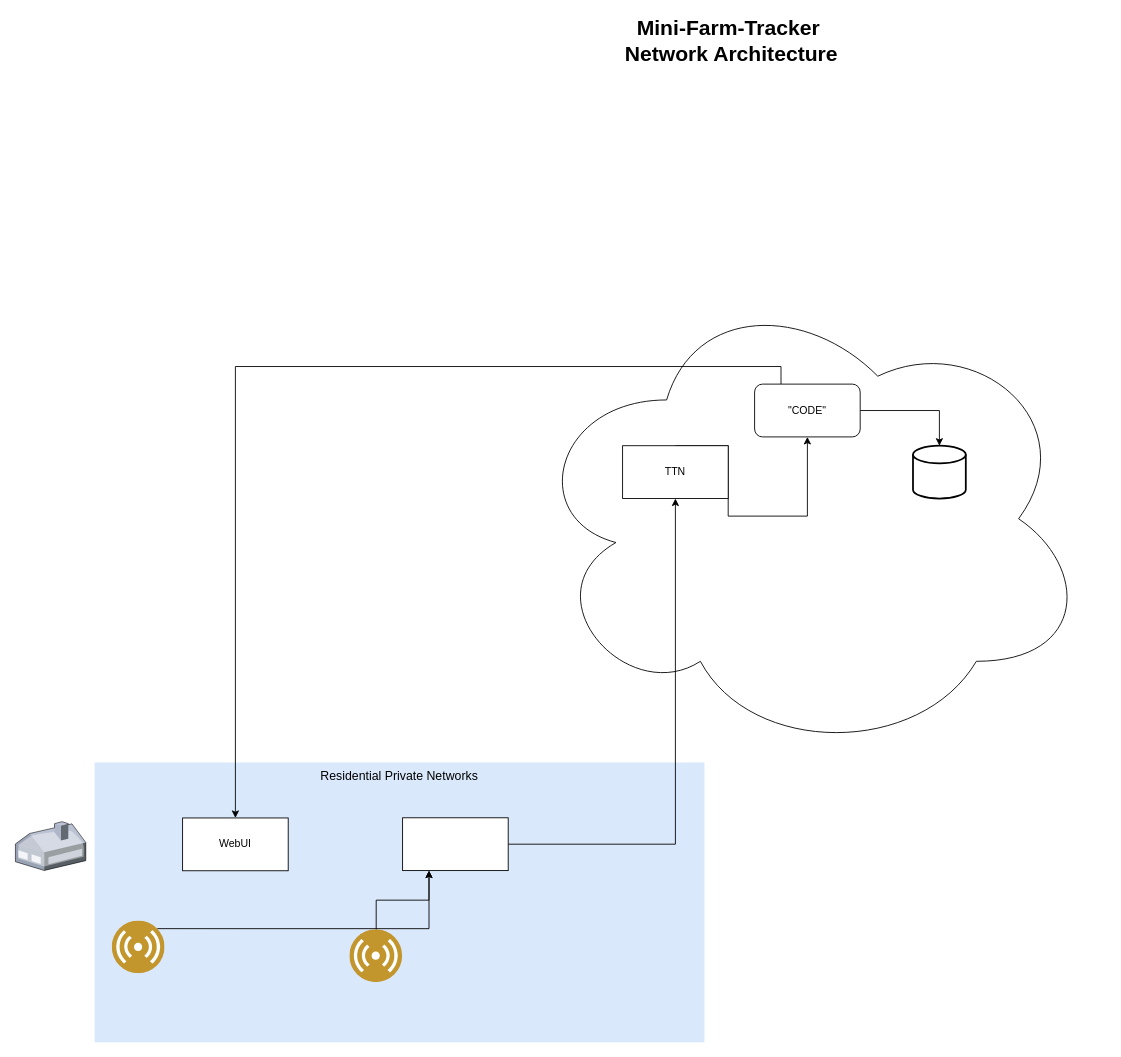
The diagram is 1121 pixels wide and 1057 high, and some of its shapes have lost their labels. Here are the shapes that lost their labels. From the top down, the centre of each, then its label:
At (939,471): "DB".
At (455,844): "GATEWAY".
